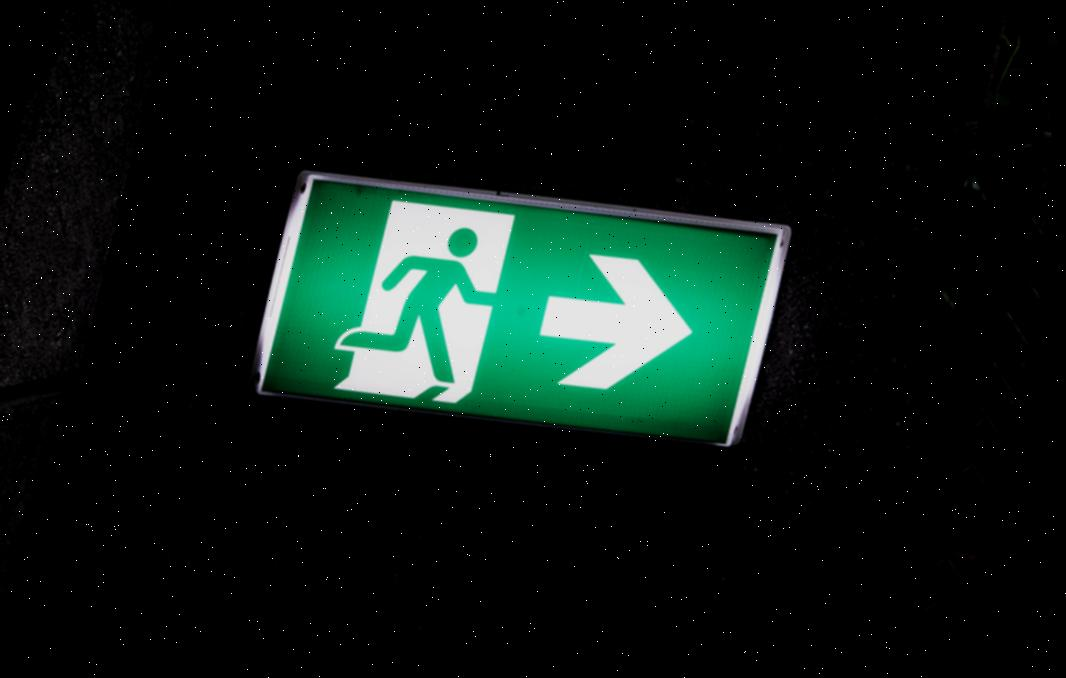emergency_exit: (253, 169, 792, 449)
